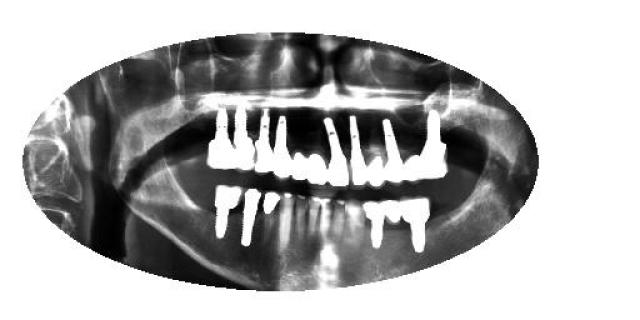Fillings: (260, 190, 282, 248), (305, 148, 327, 188), (382, 198, 402, 234), (290, 148, 310, 182)
Implant: (419, 98, 451, 184), (400, 196, 435, 252), (348, 114, 372, 192), (379, 120, 406, 188), (215, 182, 243, 240), (206, 108, 232, 170), (230, 108, 256, 168), (327, 119, 348, 190), (239, 188, 261, 250), (272, 112, 292, 180), (255, 106, 275, 174), (362, 202, 388, 252)
